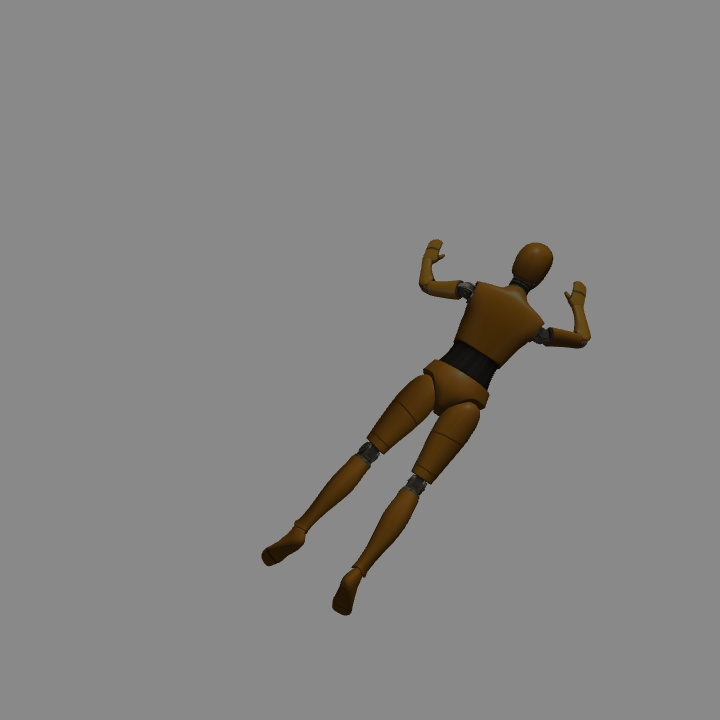victim: (290, 244, 559, 598)
